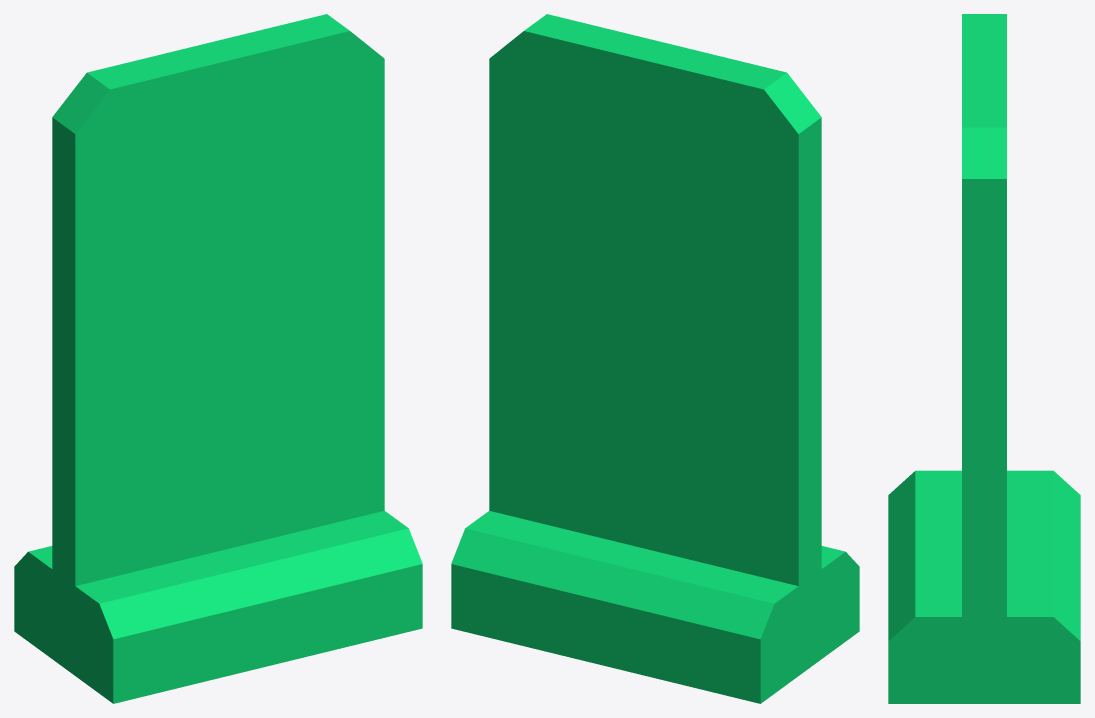
Rendered from Prop_TwoWay_001.fbx.
3 views of the same model, side by side, from view 1: azimuth 30°, elevation 25°; view 2: azimuth 150°, elevation 25°; view 3: azimuth 270°, elevation 25° (orthographic). The views are drawn at different scales.
Visible parts, largest first — view 1: Prop_TwoWay_001; view 2: Prop_TwoWay_001; view 3: Prop_TwoWay_001.
Boxes of the visible parts, box(x1,y1,x2,y2) form: Prop_TwoWay_001: box(14, 14, 422, 703); Prop_TwoWay_001: box(451, 14, 859, 703); Prop_TwoWay_001: box(888, 14, 1080, 703).
Size of the model in its own units: 180 by 321 by 100.
